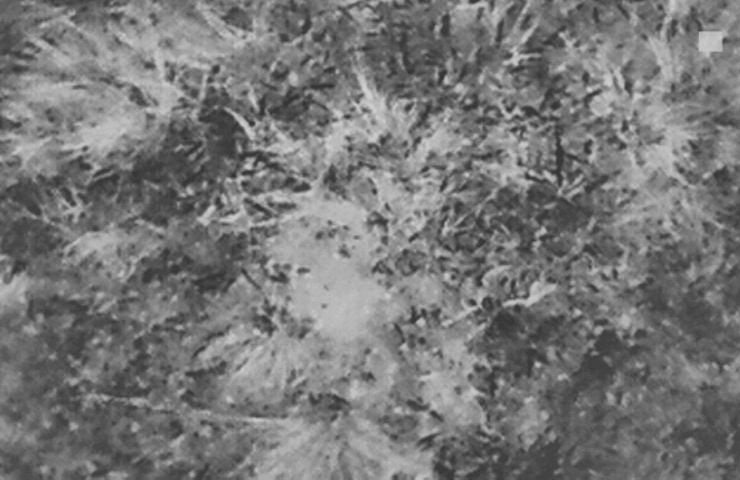landmines: (285, 252, 394, 346)
